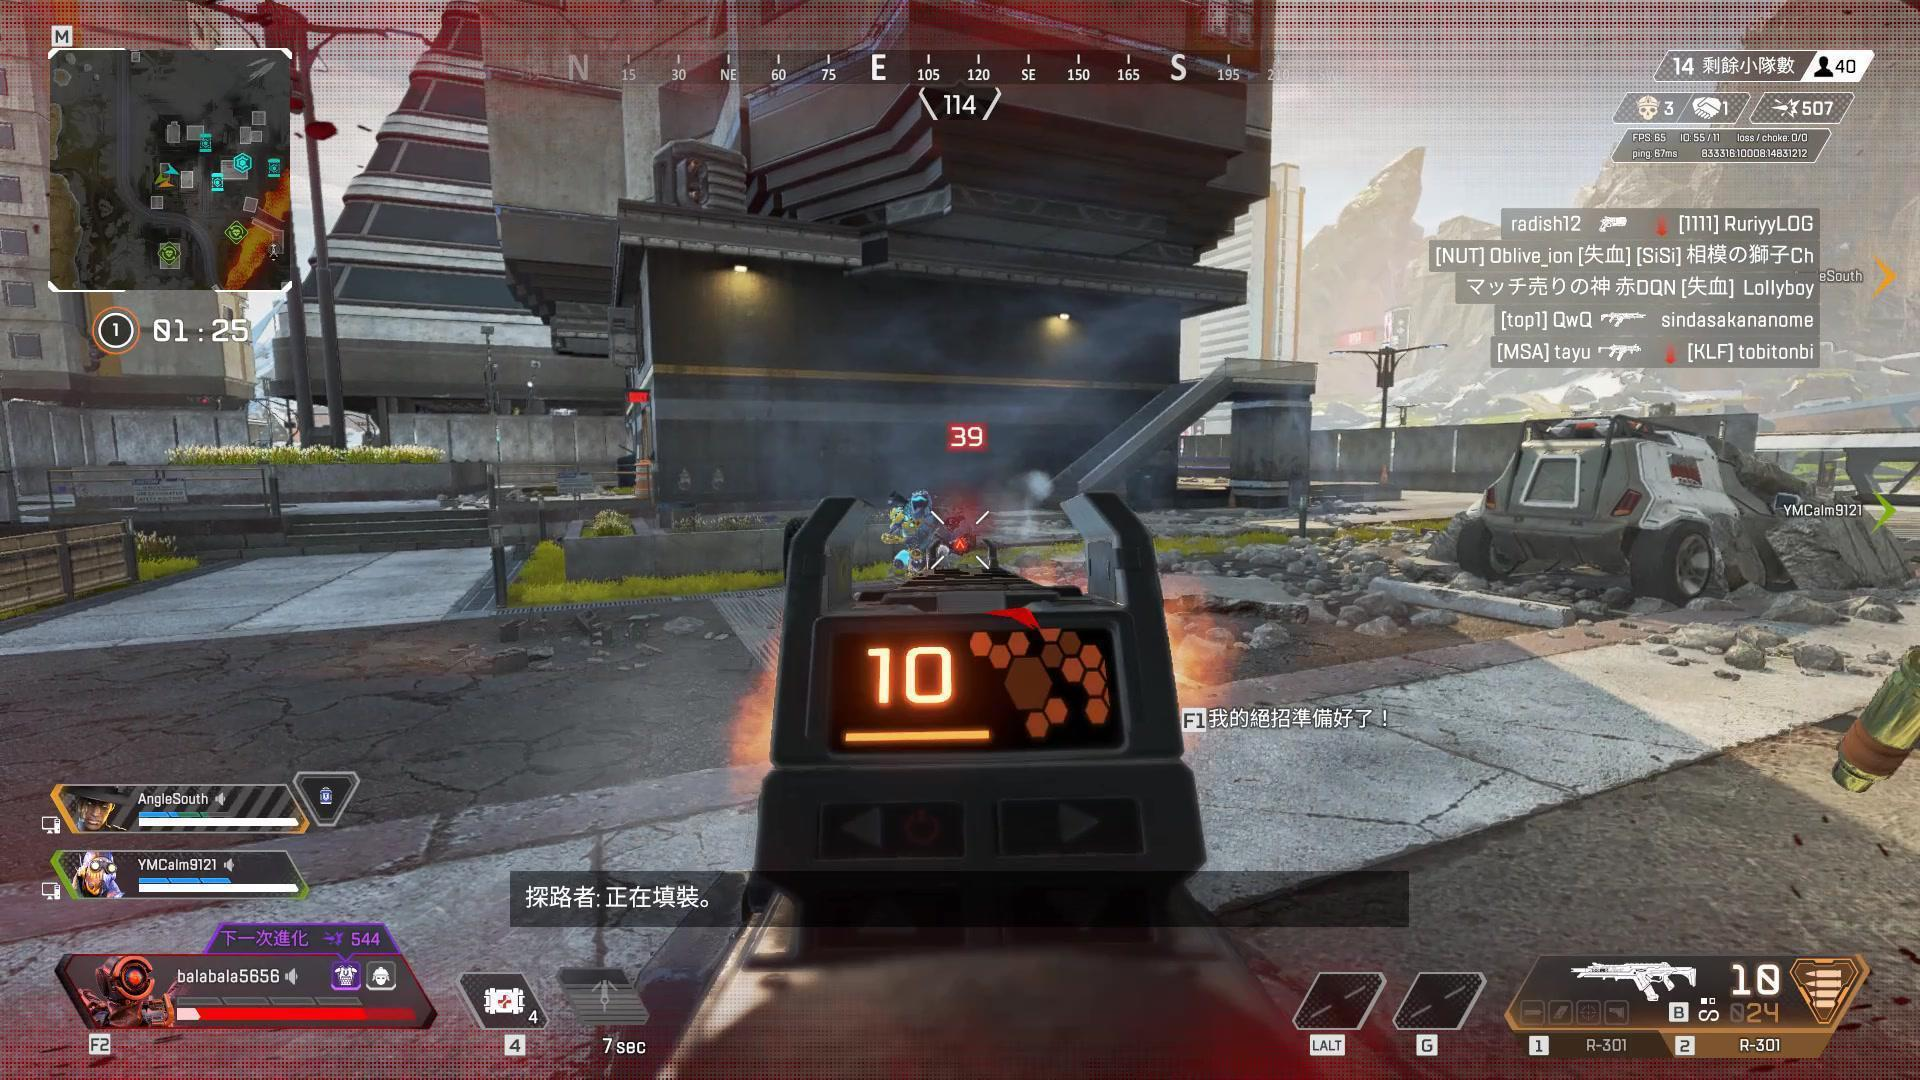avatar: (885, 491, 943, 586)
